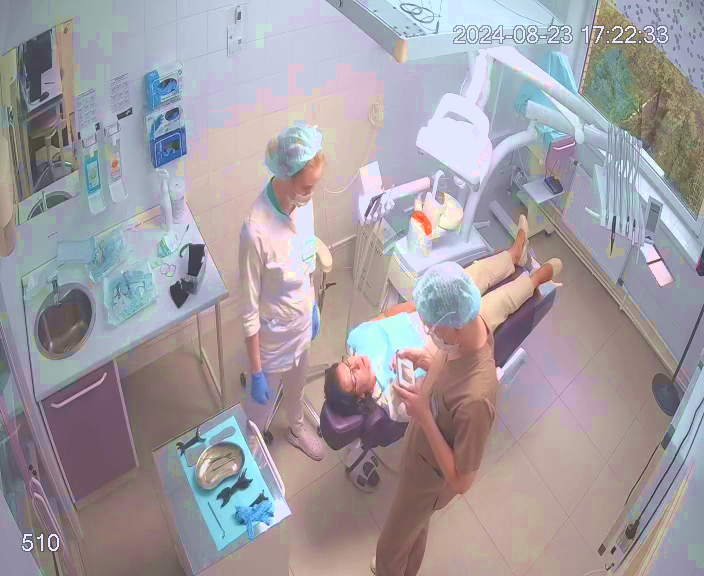Patient: (319, 213, 565, 451)
